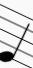E: (0, 4, 30, 66)
